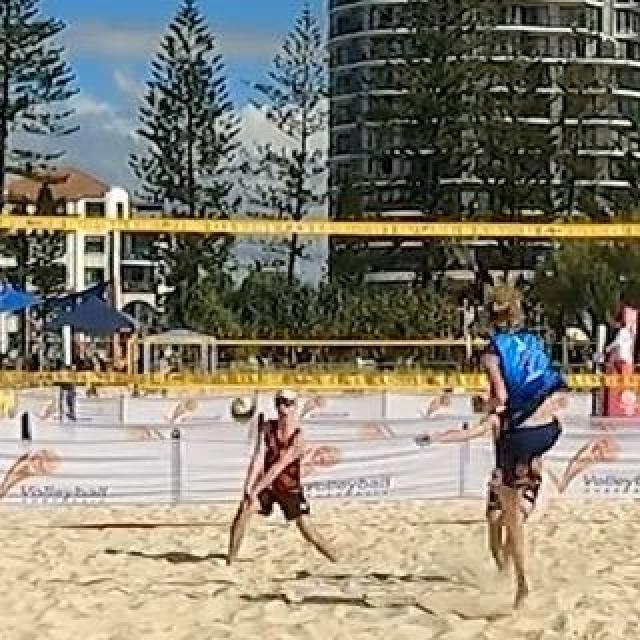volleyball: (231, 396, 255, 422)
